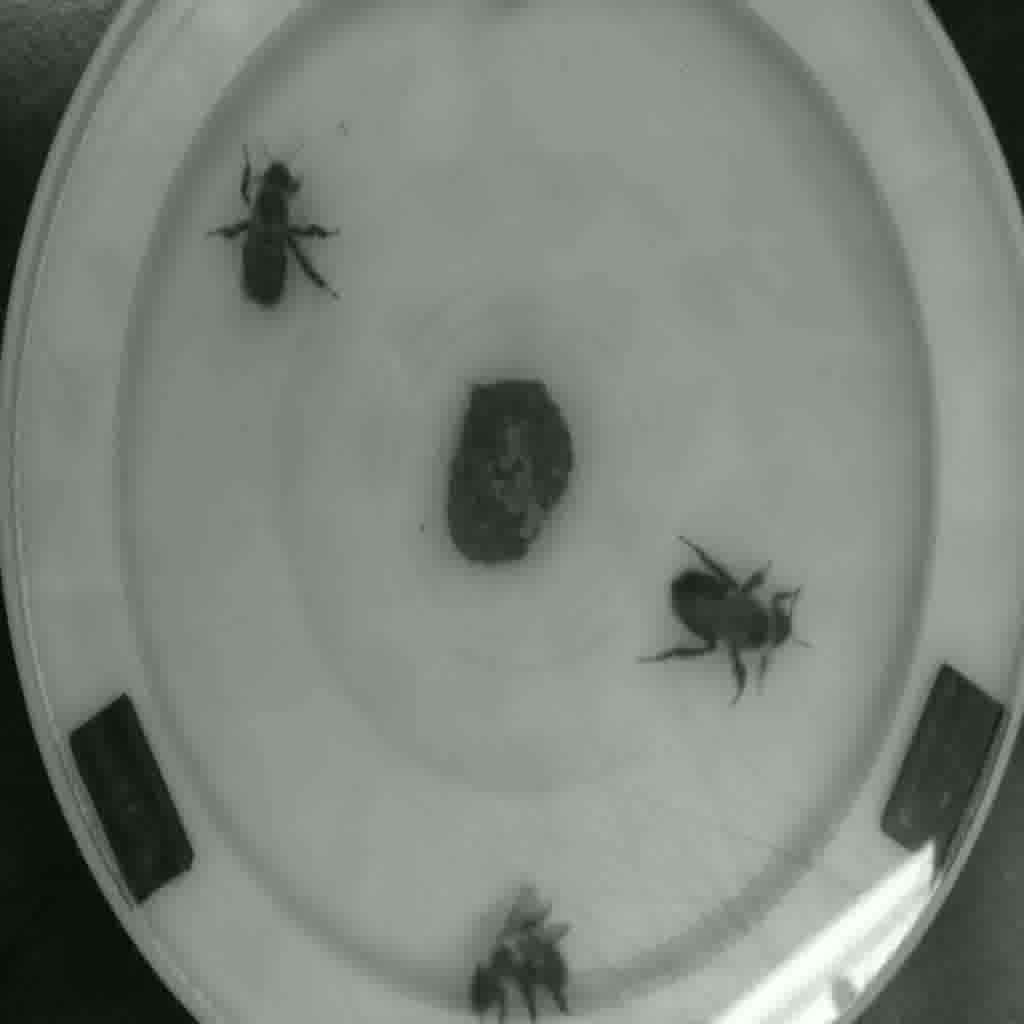bee: (195, 144, 359, 321), (656, 534, 823, 701), (462, 876, 602, 1024)
